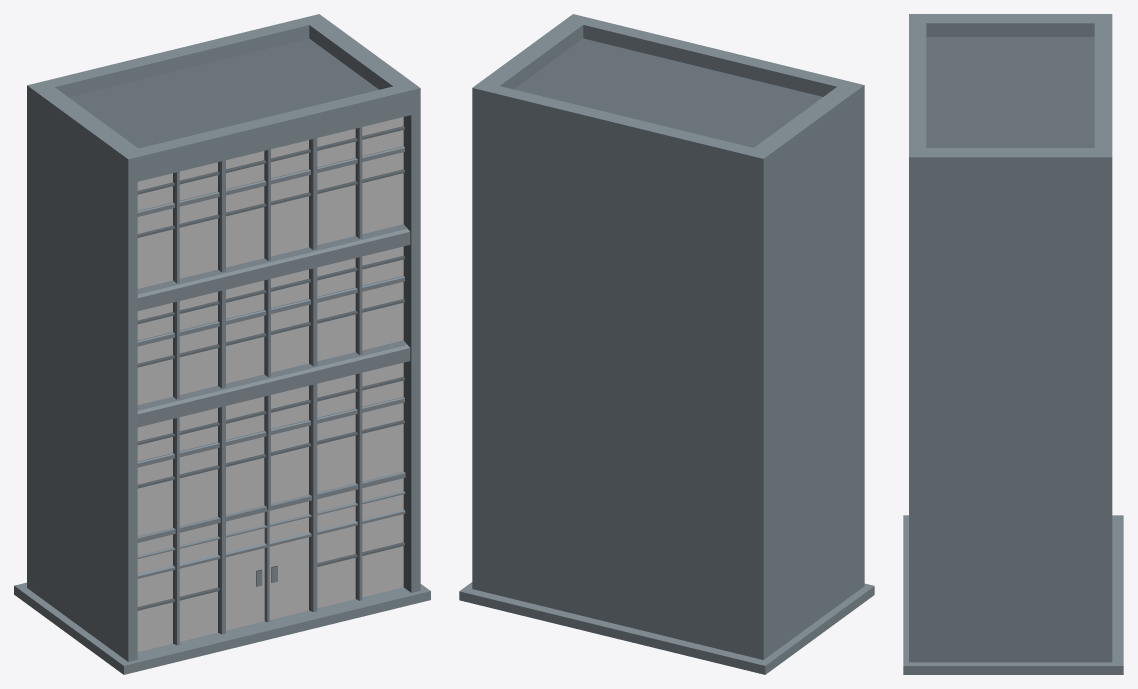
The model's file is SM_Gen_Bld_Background_04.fbx.
3 views of the same model, side by side, from view 1: azimuth 30°, elevation 25°; view 2: azimuth 150°, elevation 25°; view 3: azimuth 270°, elevation 25° (orthographic).
Parts seen in each view (by area): view 1: SM_Gen_Bld_Background_04; view 2: SM_Gen_Bld_Background_04; view 3: SM_Gen_Bld_Background_04.
Part boxes in pixels (bbox=[...]): SM_Gen_Bld_Background_04: bbox=[14, 14, 430, 674]; SM_Gen_Bld_Background_04: bbox=[459, 14, 874, 674]; SM_Gen_Bld_Background_04: bbox=[903, 14, 1123, 674].
Size of the model in its own units: 840 by 1339 by 520.
